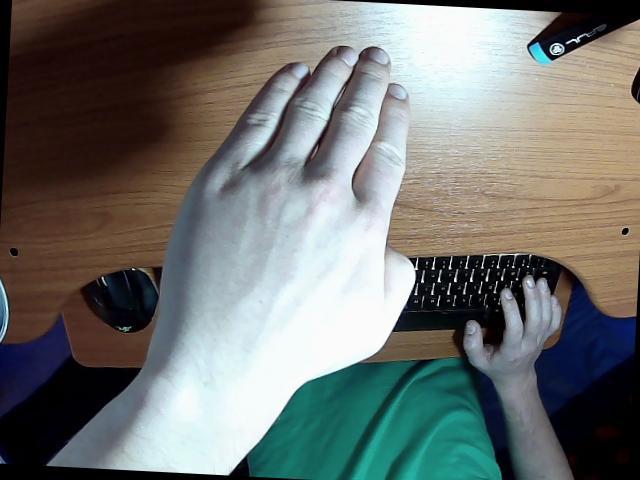paper: (53, 47, 415, 473)
